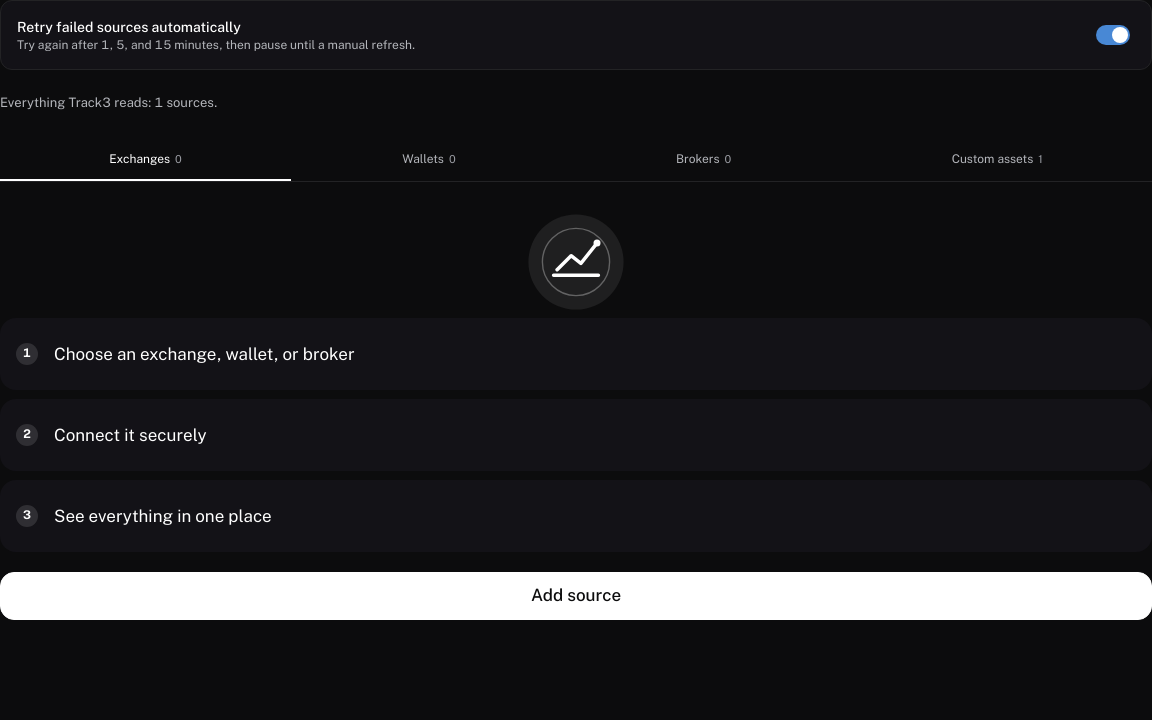
Configuration base currency initialization › opens Add custom asset from the source picker with only custom assets
The image size is (1152, 720).
Click the button "Add source": (576, 596) [0,572,1151,620]
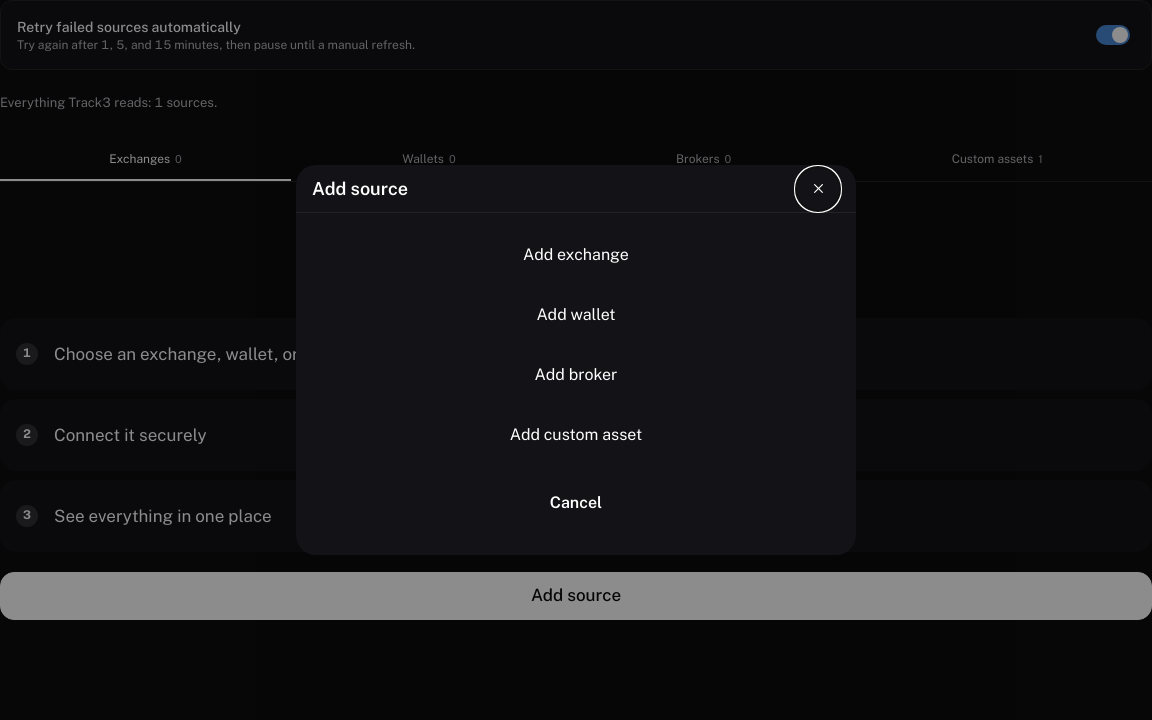
Click the button "Add custom asset": (576, 435) [312,409,840,461]
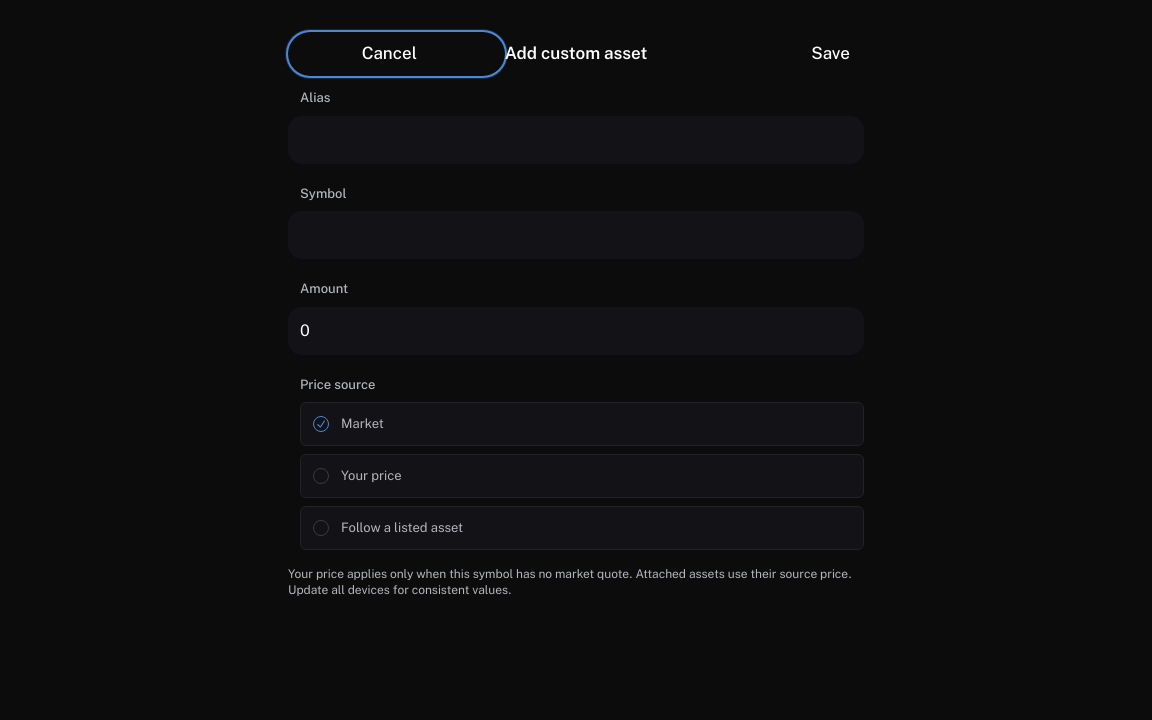
Check: the dialog "Add custom asset" is shown
